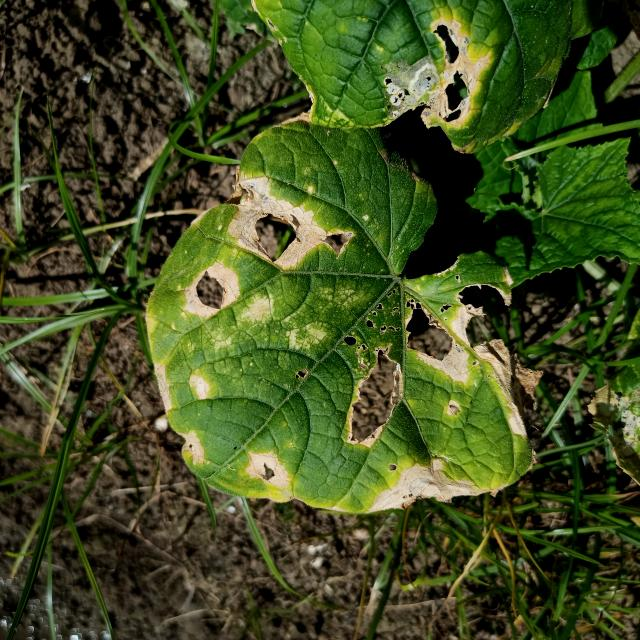disease_cucumber: (151, 166, 501, 515), (394, 16, 499, 134)
